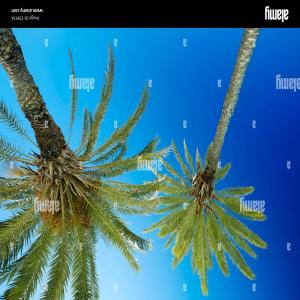palm tree: (0, 28, 172, 299), (142, 28, 268, 296)
